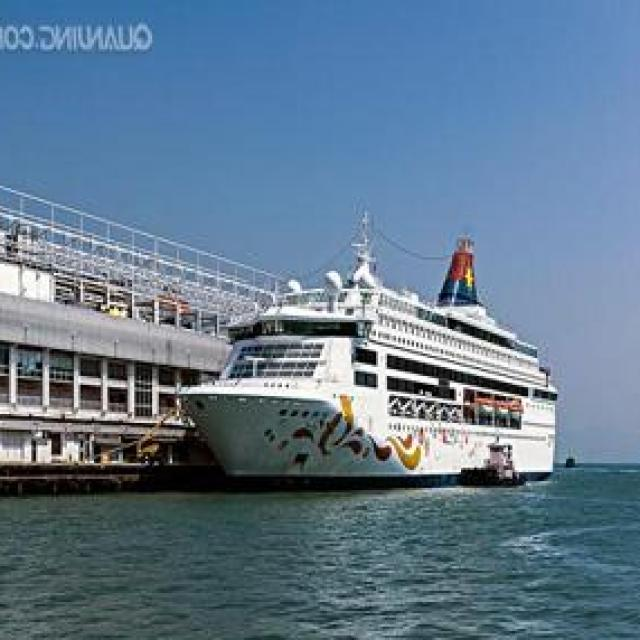passenger ship: (182, 226, 558, 488)
